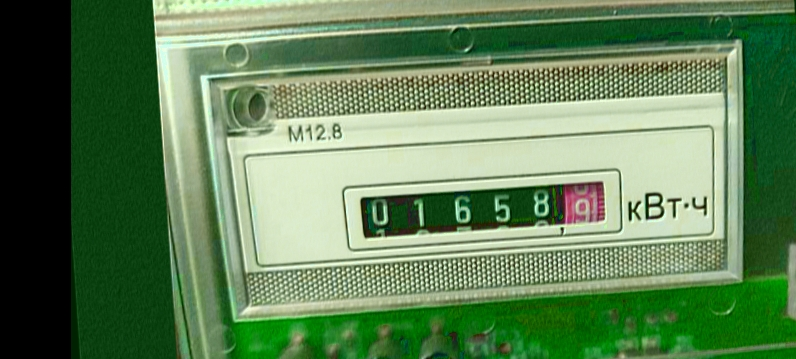0: (369, 195, 392, 228)
1: (413, 196, 428, 228)
5: (493, 191, 514, 225)
6: (453, 193, 475, 225)
8: (531, 187, 553, 220)
9: (572, 196, 592, 223)
screen: (334, 159, 630, 257)
